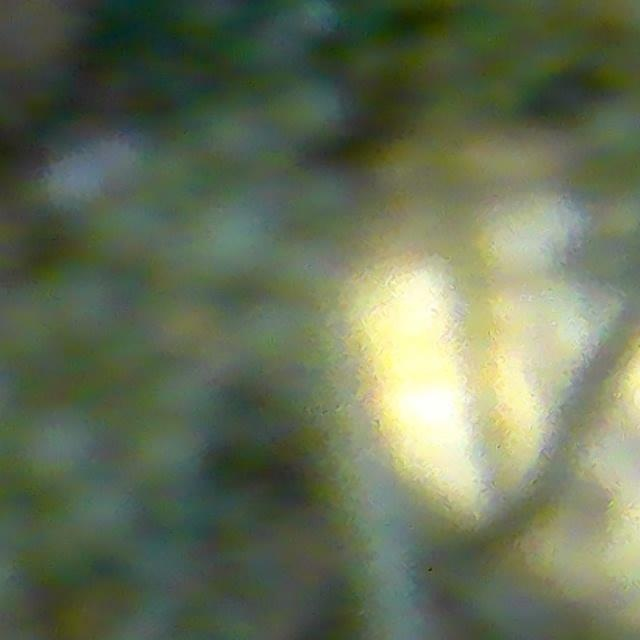SeaGrape: (186, 191, 279, 285), (55, 476, 143, 560), (16, 400, 100, 487), (277, 73, 349, 144), (269, 0, 341, 45)
